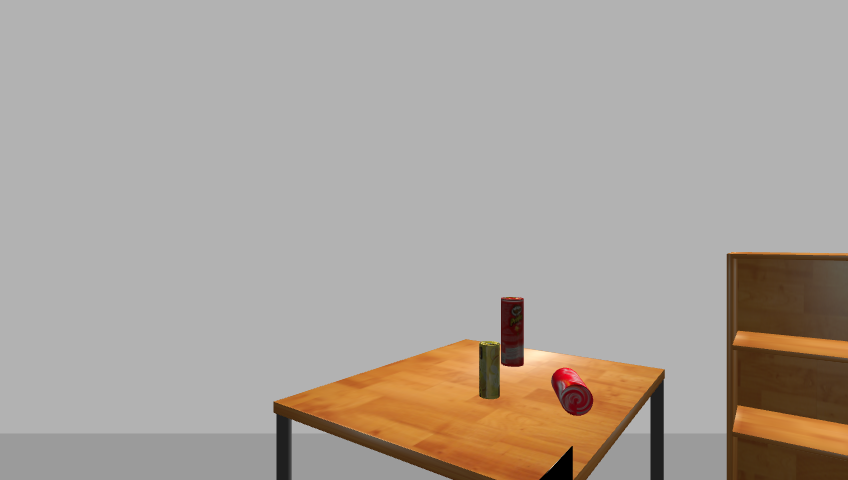aruco marker: (529, 446, 577, 480)
biscuits pack: (477, 340, 502, 401)
bookshelf: (720, 250, 848, 480)
coke can: (549, 368, 596, 416)
dinner table: (267, 340, 676, 480)
pringles can: (498, 296, 527, 369)
